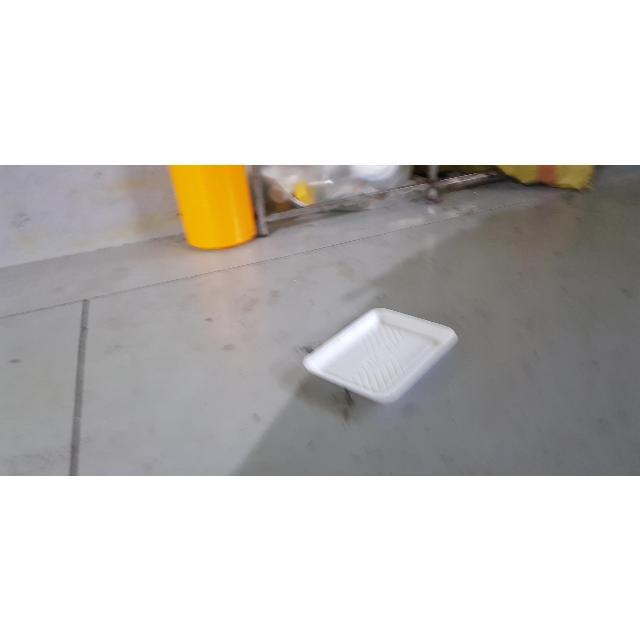Plastico descartable: (302, 309, 459, 405)
